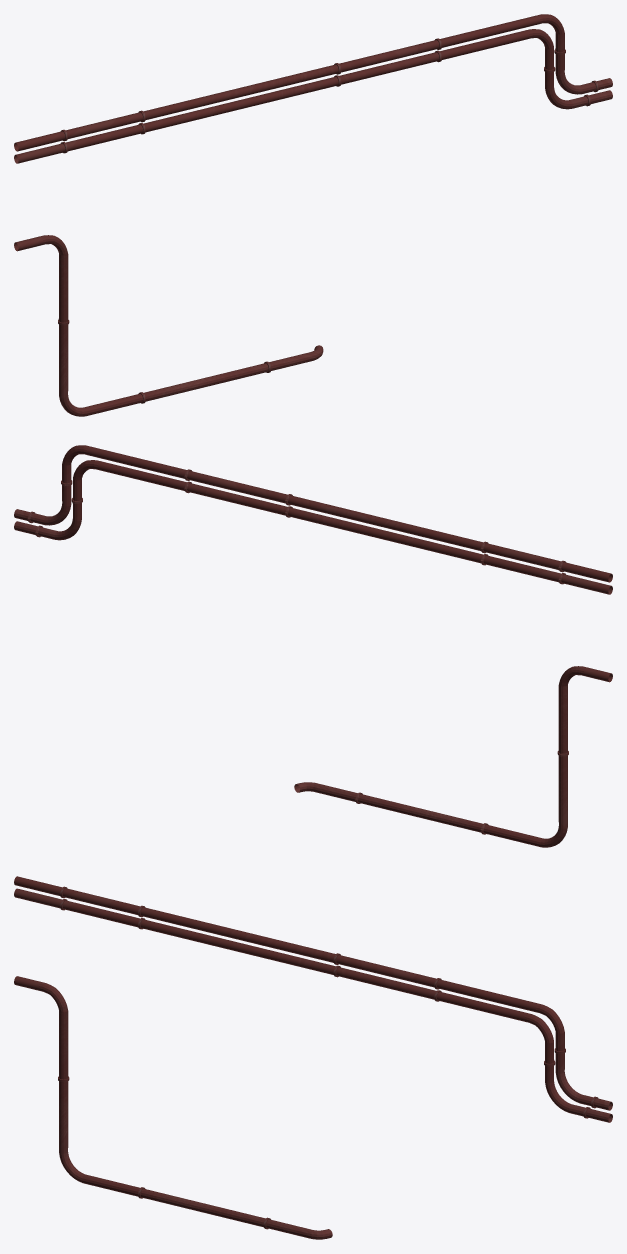
File: CS_pipe_01.FBX
The picture shows the model from 3 angles, top to bottom: view 1: azimuth 30°, elevation 25°; view 2: azimuth 150°, elevation 25°; view 3: azimuth 330°, elevation 25°; orthographic projection.
Visible parts, largest first — view 1: SM_pipe_01; view 2: SM_pipe_01; view 3: SM_pipe_01.
Part boxes in pixels (<box>): SM_pipe_01: <box>14,14,612,416</box>; SM_pipe_01: <box>14,445,612,847</box>; SM_pipe_01: <box>14,876,612,1239</box>.
Size of the model in its own units: 600 by 15.92 by 281.
